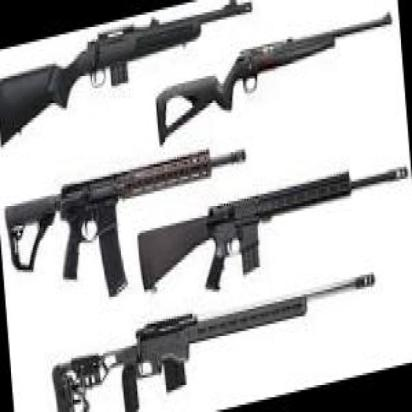Gun: (139, 175, 411, 294)
